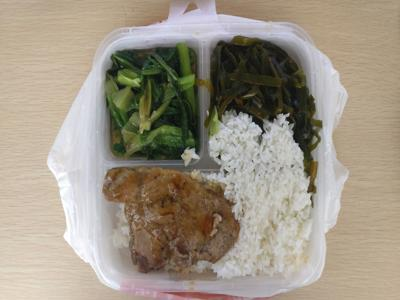rice: (210, 113, 327, 282)
ymc: (103, 43, 208, 162)
